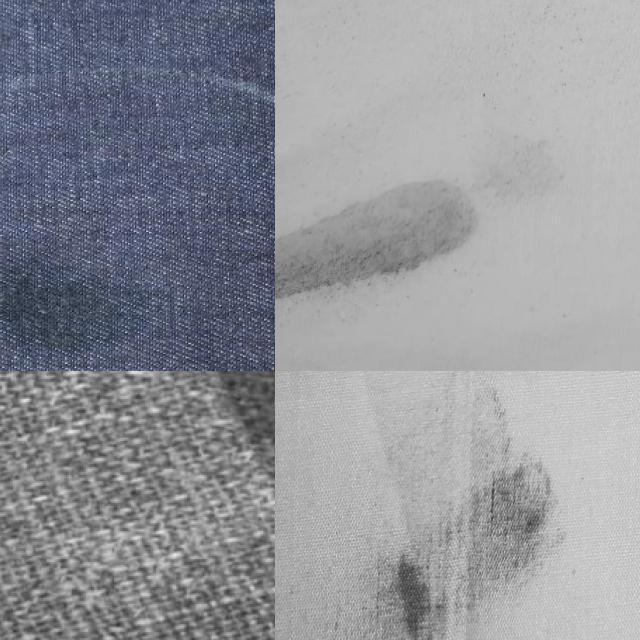Hole: (275, 37, 640, 371), (275, 371, 640, 640)
